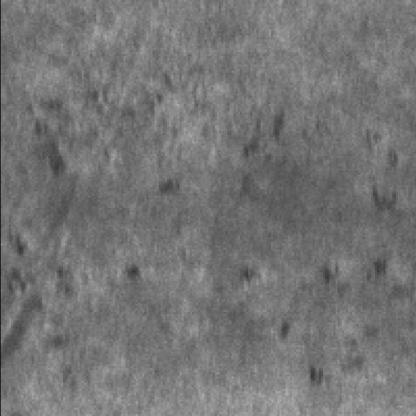rolled-in_scale: (19, 68, 293, 206), (8, 237, 104, 381)
